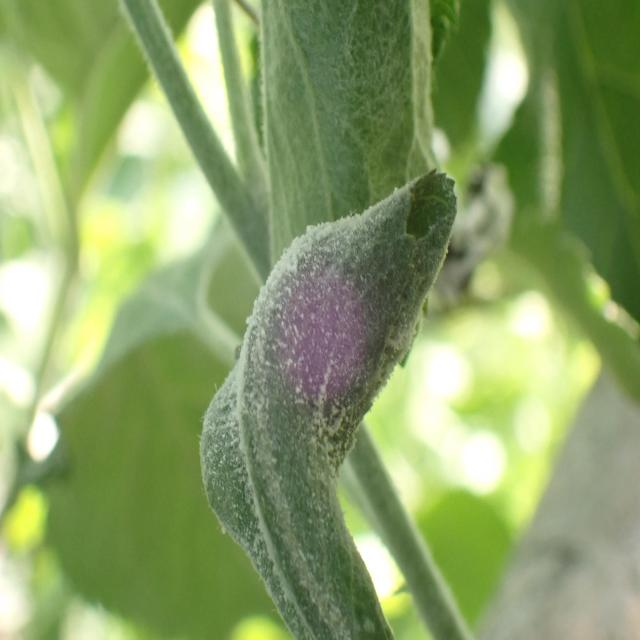Powdery_mildew: (198, 155, 456, 639), (243, 0, 447, 286)
